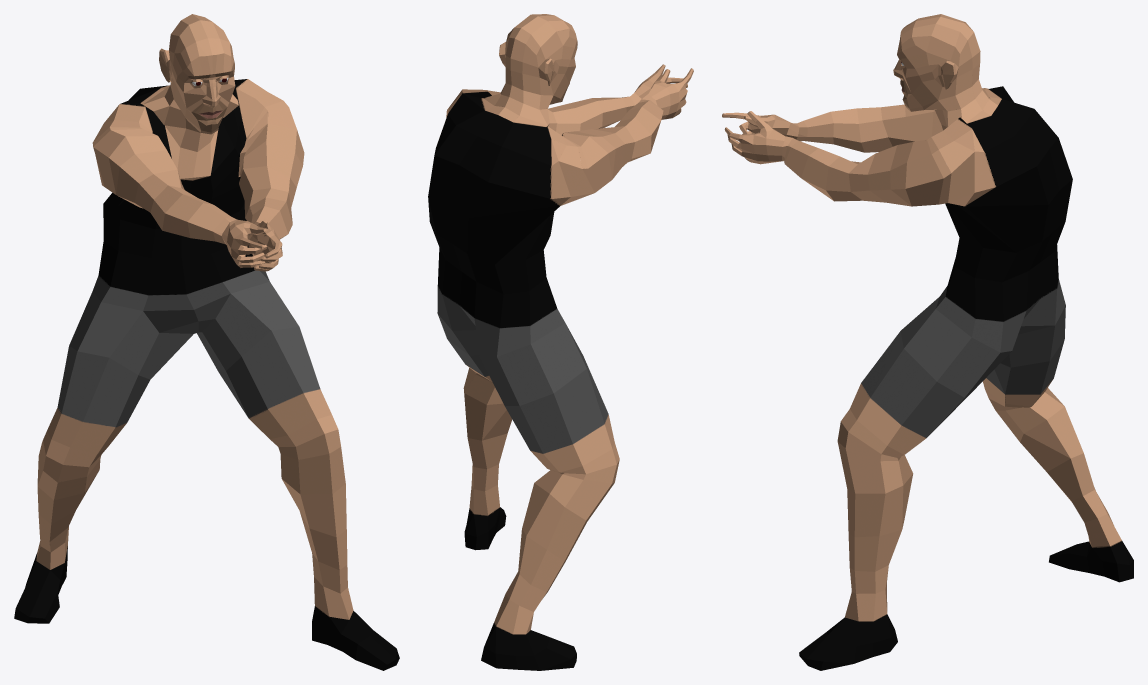
The model's file is PlayerShoot(32).obj.
3 views of the same model, side by side, from view 1: azimuth 30°, elevation 25°; view 2: azimuth 150°, elevation 25°; view 3: azimuth 270°, elevation 25° (orthographic). The views are drawn at different scales.
Parts seen in each view (by area): view 1: Plane002; view 2: Plane002; view 3: Plane002.
Boxes of the visible parts, x1=… form: Plane002: x1=14, y1=14, x2=399, y2=670; Plane002: x1=428, y1=14, x2=693, y2=670; Plane002: x1=722, y1=14, x2=1133, y2=670.
Size of the model in its own units: 715 by 1665 by 1052.
